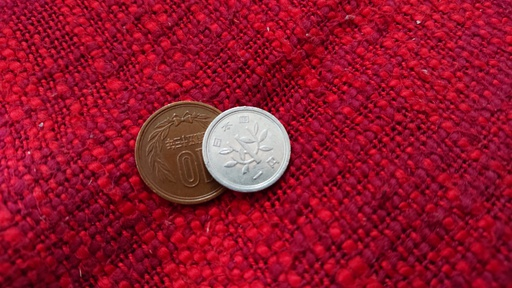10yen: (134, 101, 241, 205)
1yen: (202, 106, 290, 193)
